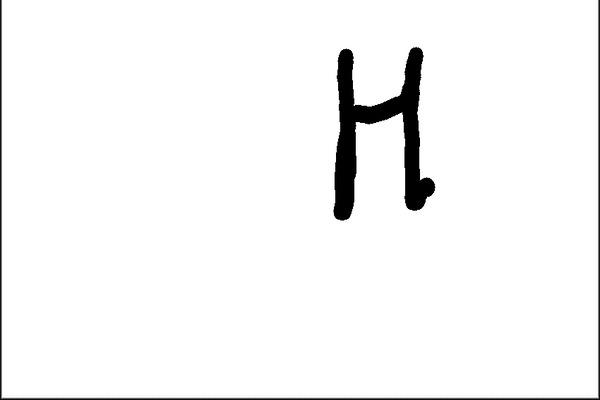H: (320, 44, 442, 221)
